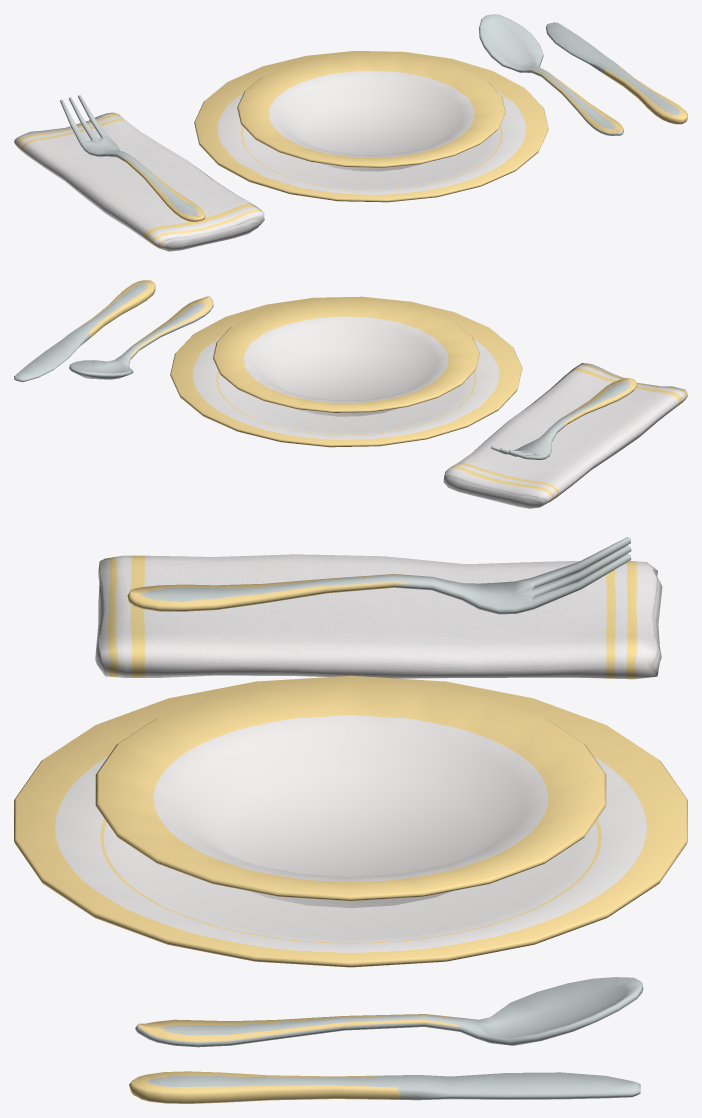
Rendered from TableWare01_3.FBX.
The picture shows the model from 3 angles, top to bottom: view 1: azimuth 30°, elevation 25°; view 2: azimuth 150°, elevation 25°; view 3: azimuth 270°, elevation 25°; orthographic projection. The views are drawn at different scales.
Visible parts, largest first — view 1: TableWare01_3; view 2: TableWare01_3; view 3: TableWare01_3.
Part boxes in pixels (left/top/right/bottom): TableWare01_3: left=14, top=14, right=687, bottom=251; TableWare01_3: left=14, top=280, right=687, bottom=508; TableWare01_3: left=14, top=537, right=687, bottom=1103.
Size of what is drawn, in the model's own units: 0.5174 by 0.0458 by 0.2867.
